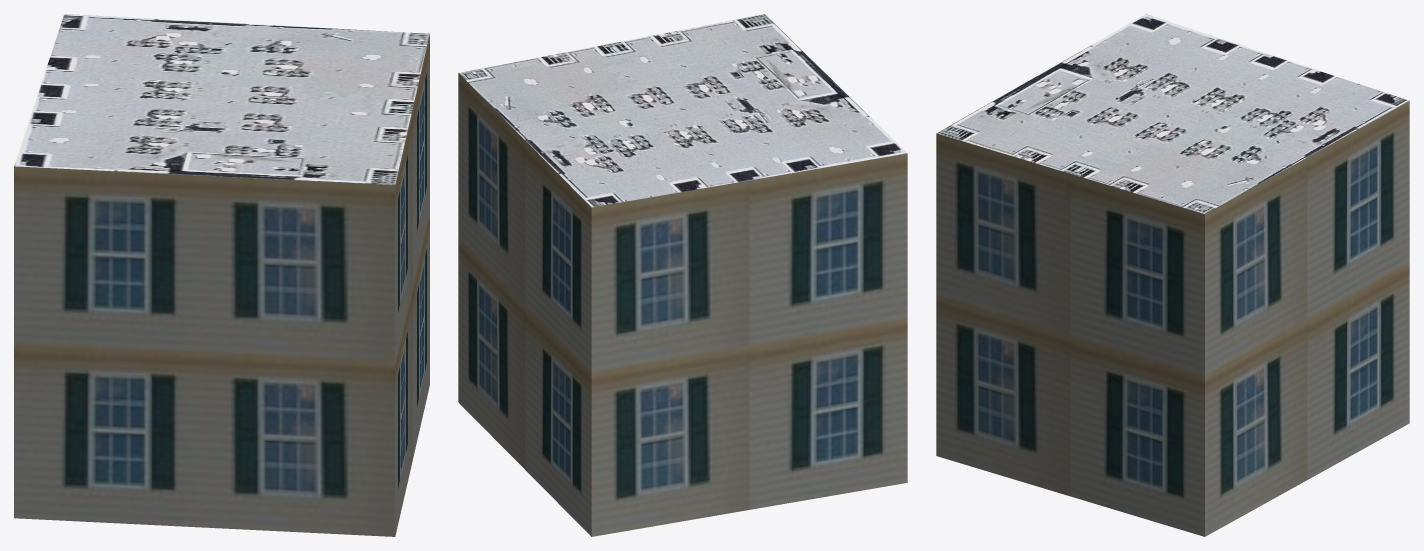
The model's file is ResTex__269.fbx.
The picture shows the model from 3 angles, left to right: view 1: azimuth 30°, elevation 25°; view 2: azimuth 150°, elevation 25°; view 3: azimuth 270°, elevation 25°; orthographic projection. The views are drawn at different scales.
Parts seen in each view (by area): view 1: CityEngineMaterial_7_m, CityEngineMaterial_4_m; view 2: CityEngineMaterial_7_m, CityEngineMaterial_4_m; view 3: CityEngineMaterial_7_m, CityEngineMaterial_4_m.
Part boxes in pixels (box(x1,y1,x2,y2)): CityEngineMaterial_7_m: box(14, 34, 429, 536); CityEngineMaterial_4_m: box(14, 14, 429, 184); CityEngineMaterial_7_m: box(458, 73, 907, 536); CityEngineMaterial_4_m: box(459, 14, 906, 207); CityEngineMaterial_7_m: box(936, 101, 1409, 536); CityEngineMaterial_4_m: box(937, 14, 1408, 214).
Size of the model in its own units: 7.99 by 6 by 7.98.
Materials: 2 (2 with a texture image).
